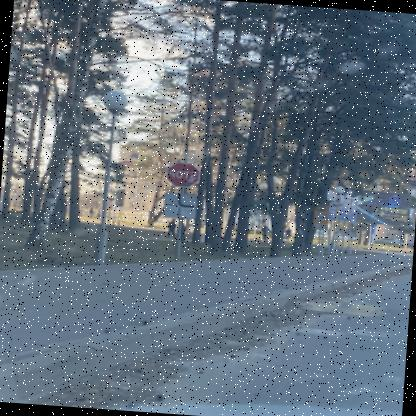speedlimit: (316, 212, 328, 221)
stop: (167, 160, 202, 188)
